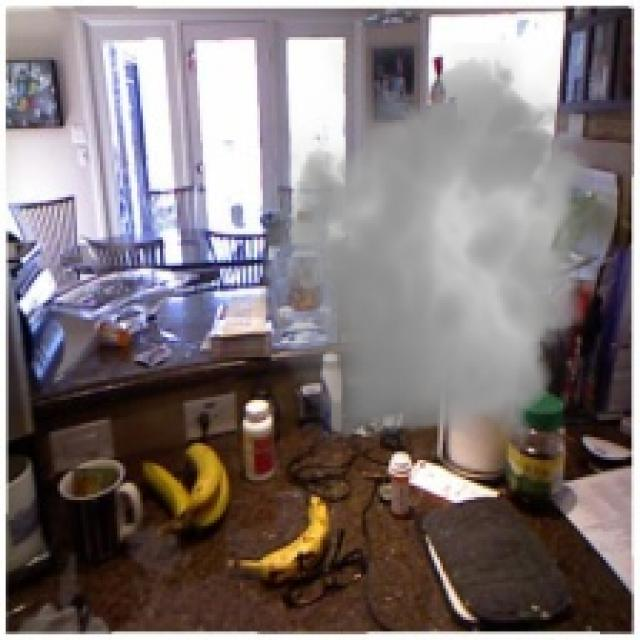smoke: (248, 43, 612, 460)
